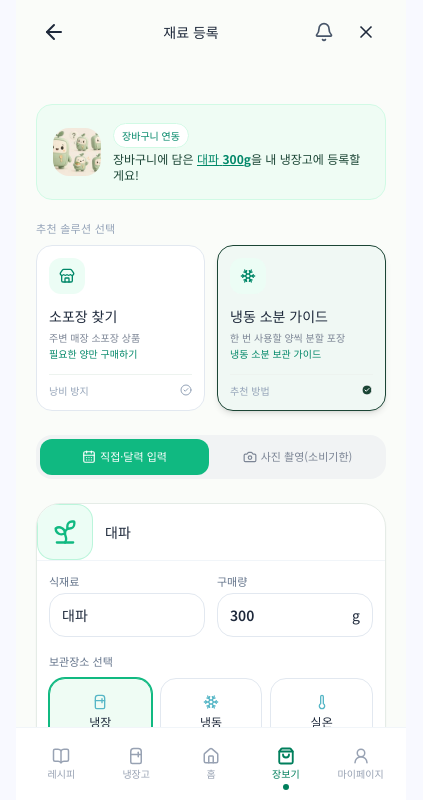
Scenario: opens the small package finder from registration and returns to the form
This screenshot has width=423, height=800.
Step 1. Click the button "소포장 찾기" → (120, 328), box [36,244,205,410]
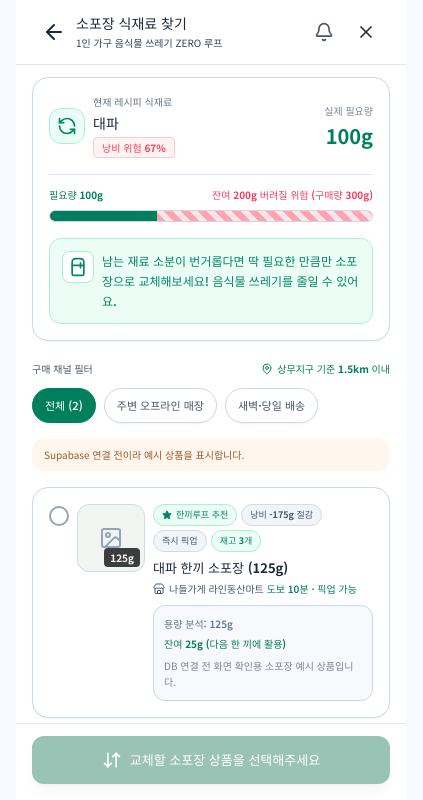
Expected: the heading "소포장 식재료 찾기" is shown, [76,13,187,33]
Step 2. Click the button named "뒤로가기" → (54, 32), box [36,14,72,50]
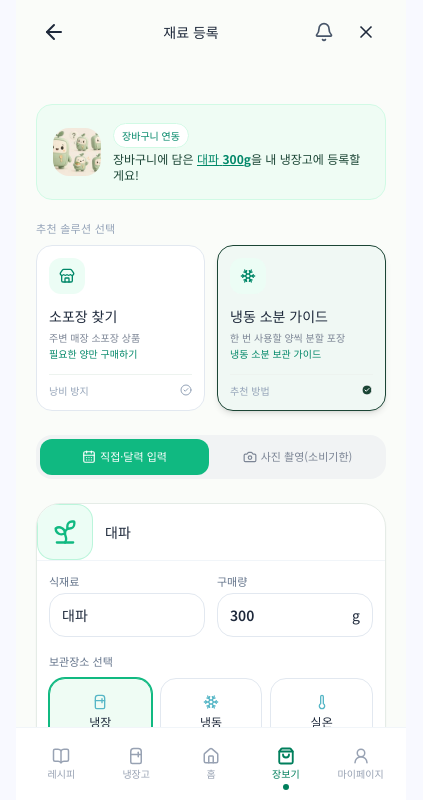
Expected: the heading "재료 등록" is shown, [163,22,219,42]
Expected: the button "소포장 찾기" is shown, [36,244,205,410]
